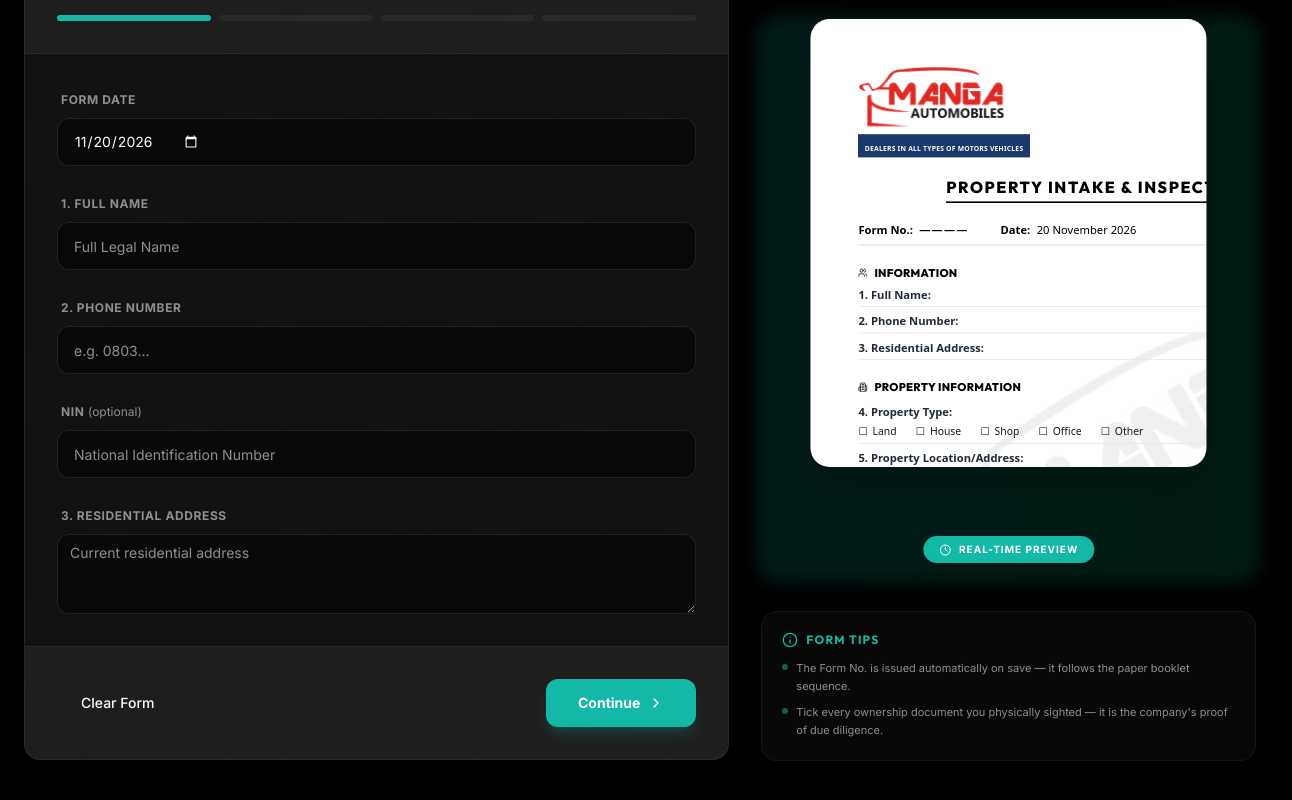
Scenario: PropertyIntake page › ticks ownership document checkboxes and reveals the Other field
The width and height of the screenshot is (1292, 800).
(page scrolled)
Click the button "Continue".
click(621, 703)  # box 546,679 -> 696,727
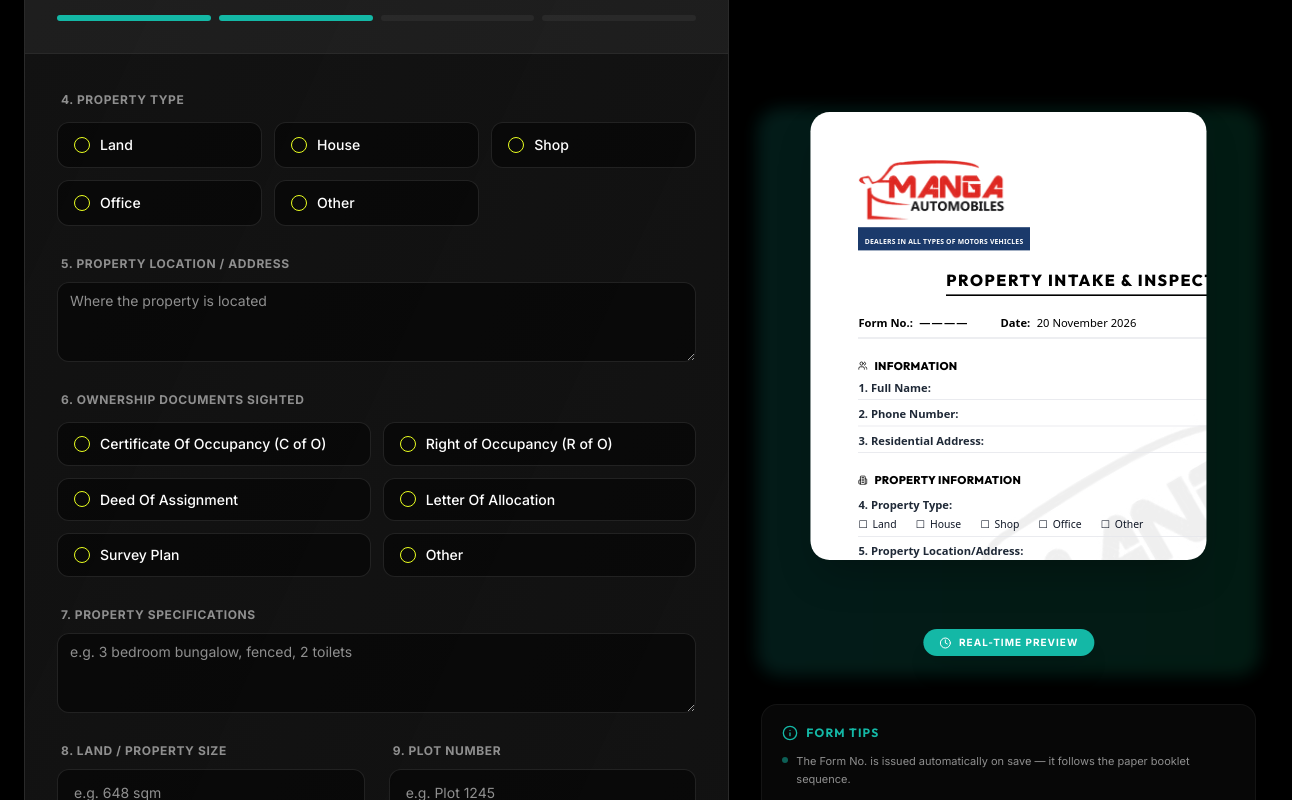
Click the checkbox with id "doc-other".
click(408, 555)  # box 400,547 -> 416,563
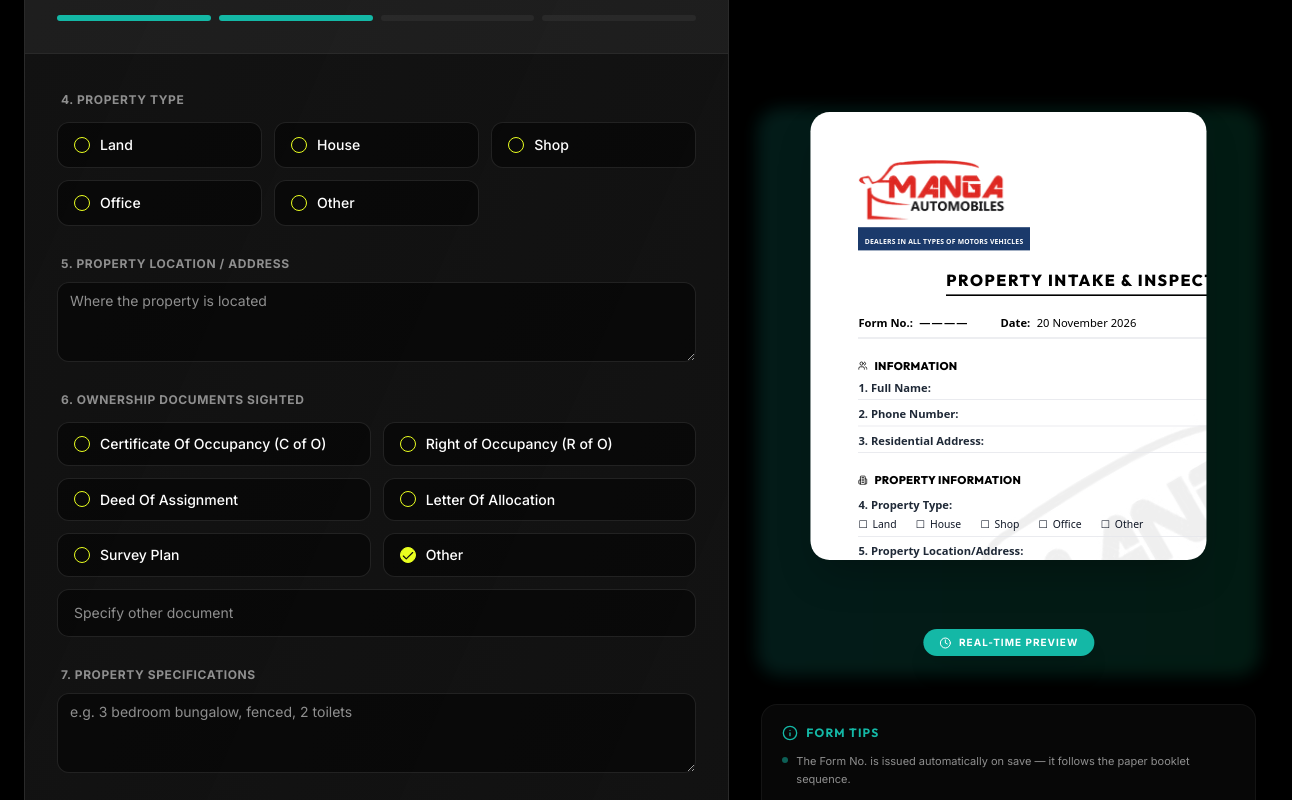
Result: the field with placeholder "Specify other document" is shown at 57,588 -> 696,636
Click the 5th radio button.
click(299, 203)  # box 291,195 -> 307,211
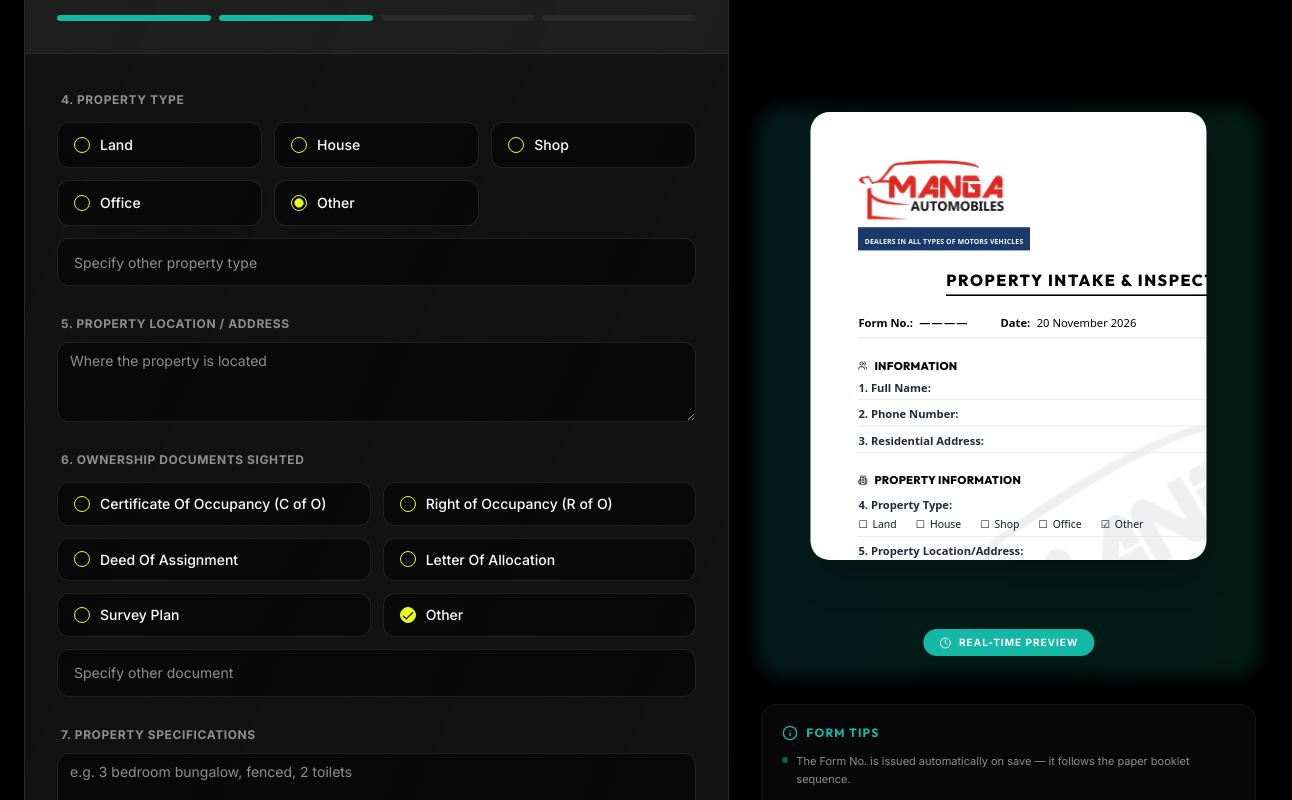
Result: the field with placeholder "Specify other property type" is shown at 57,238 -> 696,286
